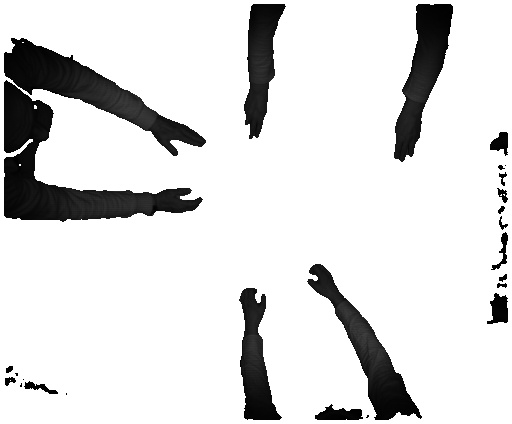hand: (157, 118, 207, 159), (392, 114, 423, 167), (232, 288, 271, 329), (240, 93, 271, 143), (158, 185, 207, 215), (304, 264, 341, 303)
